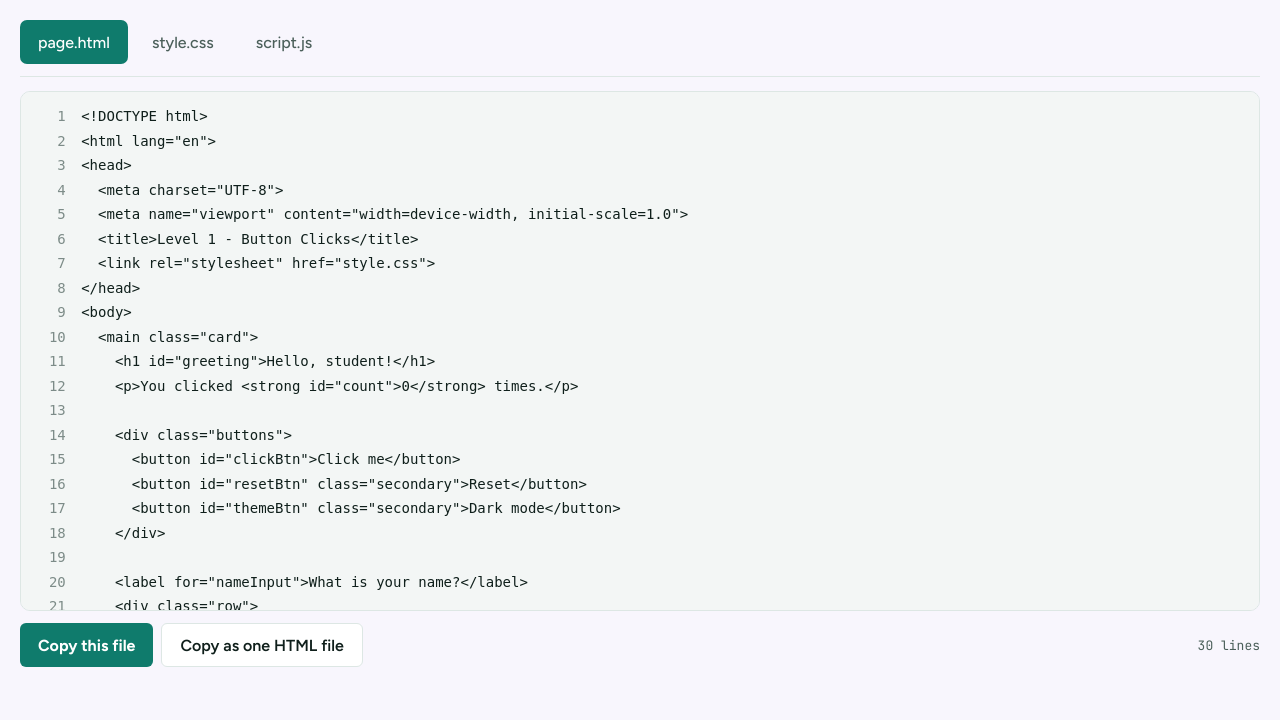
Test: CodeBox copy › when both copy methods fail, selects the code and says press Ctrl+C
This screenshot has width=1280, height=720.
What coordinates should you click on to do the following:
click the button "Copy this file"
I would click on:
 (87, 645)
Its box is [20,623,154,667].
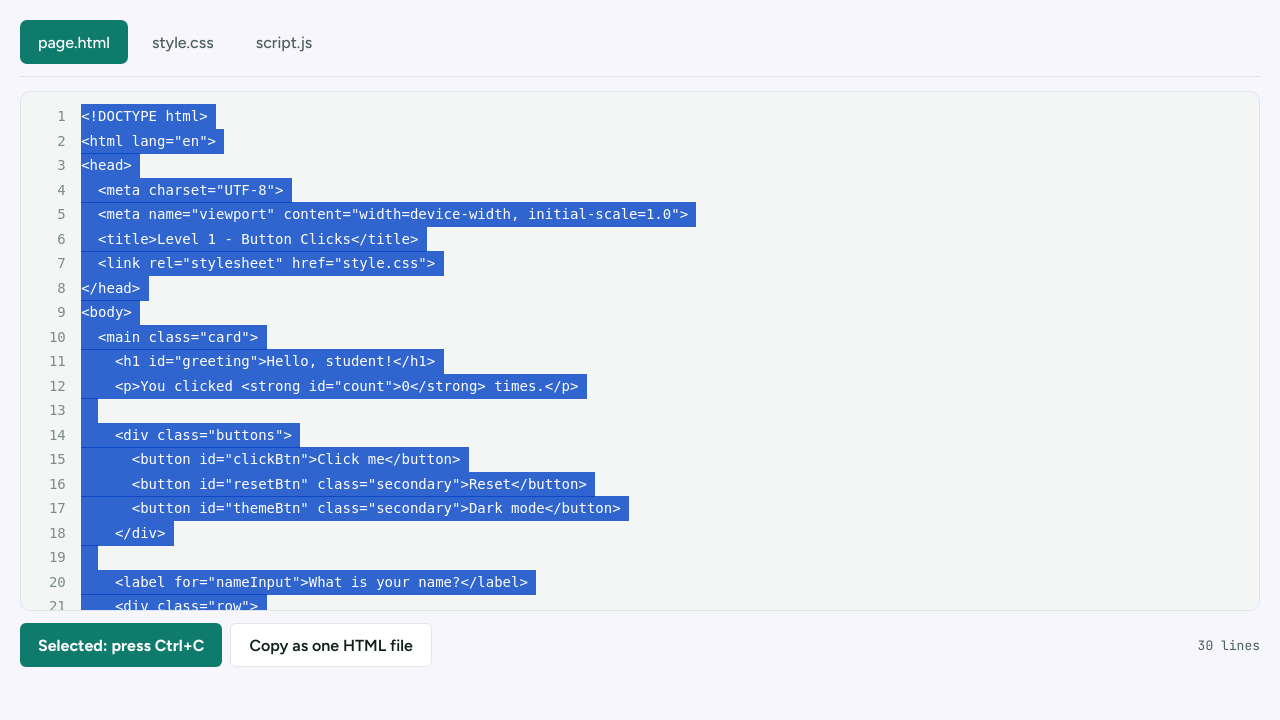
Now the button "Selected: press Ctrl+C" is shown, box [20,623,222,667]
